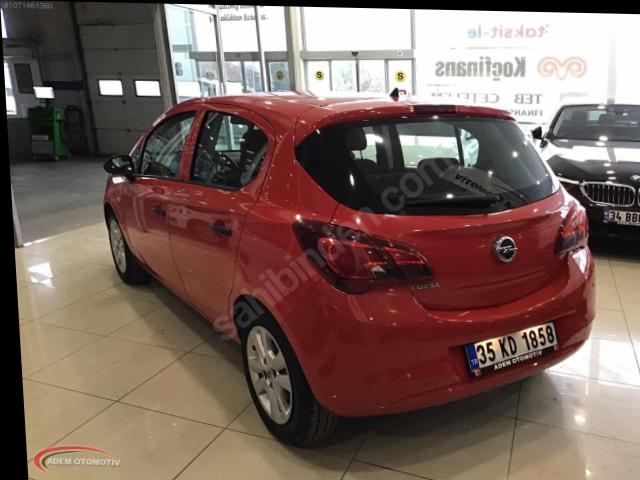plaka: (466, 322, 558, 376)
